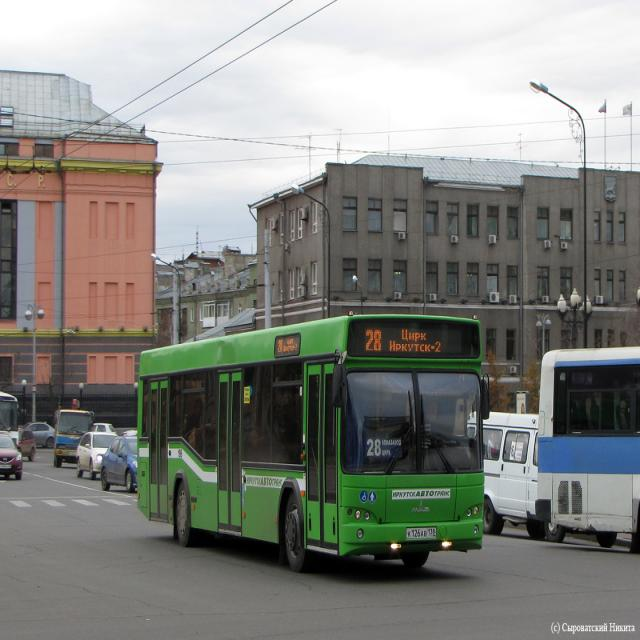number-of-bus: (366, 328, 384, 355), (367, 439, 383, 456)
